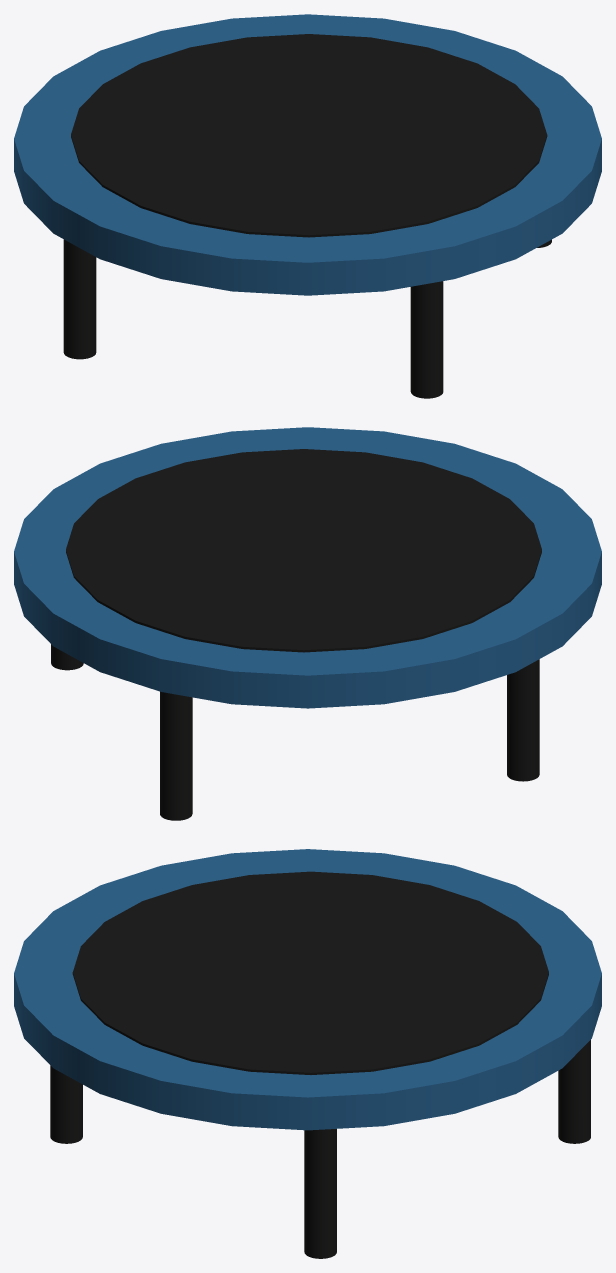
The model's file is trampoline.fbx.
3 renders of one model, top to bottom at view 1: azimuth 30°, elevation 25°; view 2: azimuth 150°, elevation 25°; view 3: azimuth 270°, elevation 25°, orthographic.
Parts seen in each view (by area): view 1: mergedBlocks; view 2: mergedBlocks; view 3: mergedBlocks.
Boxes of the visible parts, left/top/right/bottom form: mergedBlocks: left=14, top=14, right=601, bottom=398; mergedBlocks: left=14, top=427, right=601, bottom=820; mergedBlocks: left=14, top=849, right=601, bottom=1258.
Size of the model in its own units: 32.4 by 10.14 by 32.4.
